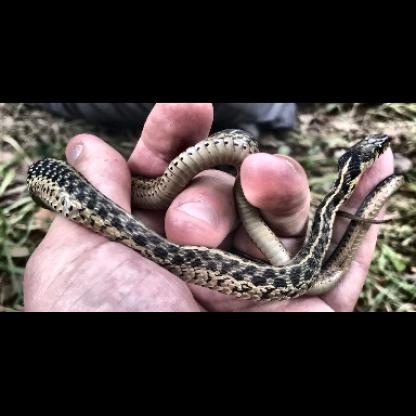Snake: (20, 128, 406, 301)
